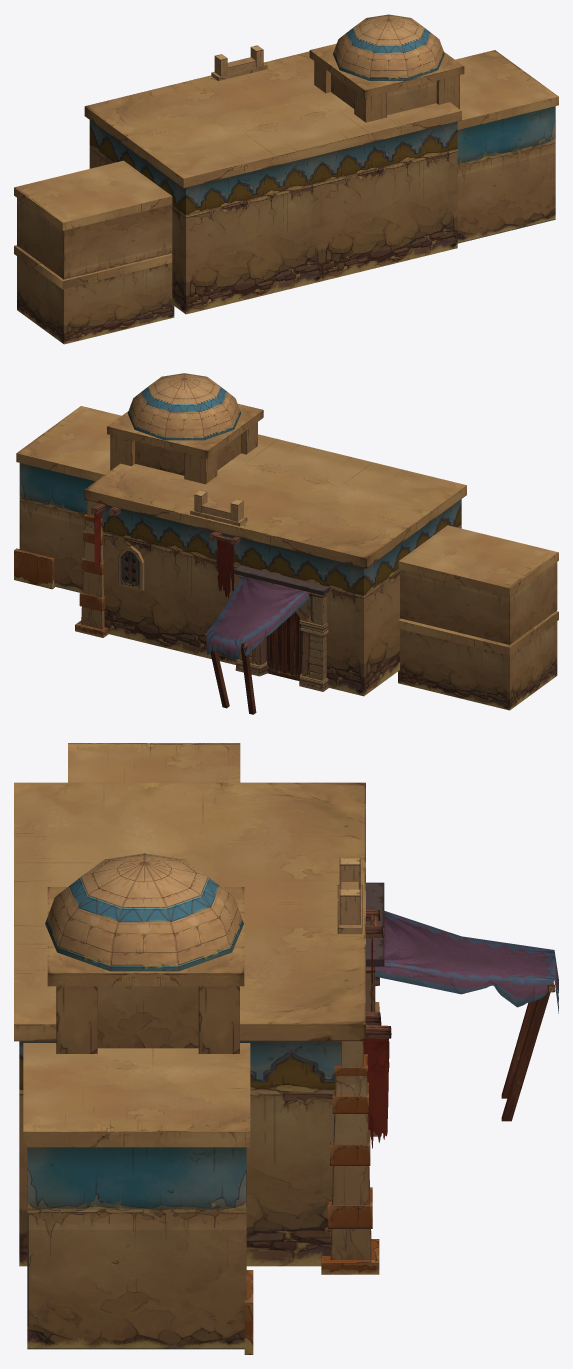
File: 2_SM_FengWu_01.FBX
The picture shows the model from 3 angles, top to bottom: view 1: azimuth 30°, elevation 25°; view 2: azimuth 150°, elevation 25°; view 3: azimuth 270°, elevation 25°; orthographic projection. The views are drawn at different scales.
Parts seen in each view (by area): view 1: 2_SM_FengWu_01, 2_SM_FengWu_02, 2_SM_FengWu_03, 2_SM_FengWu_04, 2_SM_FengWu_06, 2_SM_FengWu_05, 2_SM_FengWu_15; view 2: 2_SM_FengWu_01, 2_SM_FengWu_03, 2_SM_FengWu_02, 2_SM_FengWu_04, 2_SM_FengWu_09, 2_SM_FengWu_05, 2_SM_FengWu_06, 2_SM_FengWu_10, 2_SM_FengWu_08, 2_SM_FengWu_13, 2_SM_FengWu_15, 2_SM_FengWu_11 (+2 smaller); view 3: 2_SM_FengWu_01, 2_SM_FengWu_02, 2_SM_FengWu_06, 2_SM_FengWu_05, 2_SM_FengWu_10, 2_SM_FengWu_08, 2_SM_FengWu_03, 2_SM_FengWu_12, 2_SM_FengWu_15, 2_SM_FengWu_09, 2_SM_FengWu_13.
Part boxes in pixels (bbox=[...]): 2_SM_FengWu_01: bbox=[84, 51, 461, 314]; 2_SM_FengWu_02: bbox=[455, 50, 558, 243]; 2_SM_FengWu_03: bbox=[14, 160, 172, 279]; 2_SM_FengWu_04: bbox=[14, 245, 174, 344]; 2_SM_FengWu_06: bbox=[333, 14, 444, 80]; 2_SM_FengWu_05: bbox=[309, 43, 464, 122]; 2_SM_FengWu_15: bbox=[211, 45, 267, 80]; 2_SM_FengWu_01: bbox=[84, 434, 466, 696]; 2_SM_FengWu_03: bbox=[398, 525, 558, 644]; 2_SM_FengWu_02: bbox=[16, 406, 121, 592]; 2_SM_FengWu_04: bbox=[398, 611, 558, 710]; 2_SM_FengWu_09: bbox=[233, 565, 329, 691]; 2_SM_FengWu_05: bbox=[107, 403, 263, 484]; 2_SM_FengWu_06: bbox=[127, 373, 240, 440]; 2_SM_FengWu_10: bbox=[203, 576, 309, 714]; 2_SM_FengWu_08: bbox=[75, 500, 108, 637]; 2_SM_FengWu_13: bbox=[14, 548, 54, 589]; 2_SM_FengWu_15: bbox=[190, 490, 247, 526]; 2_SM_FengWu_11: bbox=[208, 531, 240, 598]; 2_SM_FengWu_01: bbox=[14, 782, 365, 1266]; 2_SM_FengWu_02: bbox=[23, 1043, 250, 1349]; 2_SM_FengWu_06: bbox=[45, 853, 243, 971]; 2_SM_FengWu_05: bbox=[47, 887, 244, 1053]; 2_SM_FengWu_10: bbox=[375, 911, 558, 1121]; 2_SM_FengWu_08: bbox=[321, 1041, 379, 1274]; 2_SM_FengWu_03: bbox=[68, 743, 240, 782]; 2_SM_FengWu_12: bbox=[361, 1011, 391, 1148]; 2_SM_FengWu_15: bbox=[337, 858, 362, 933]; 2_SM_FengWu_09: bbox=[366, 882, 384, 1136]; 2_SM_FengWu_13: bbox=[244, 1270, 253, 1354].
Size of the model in its own units: 2036 by 901 by 1114.
Materials: 2 (2 with a texture image).
